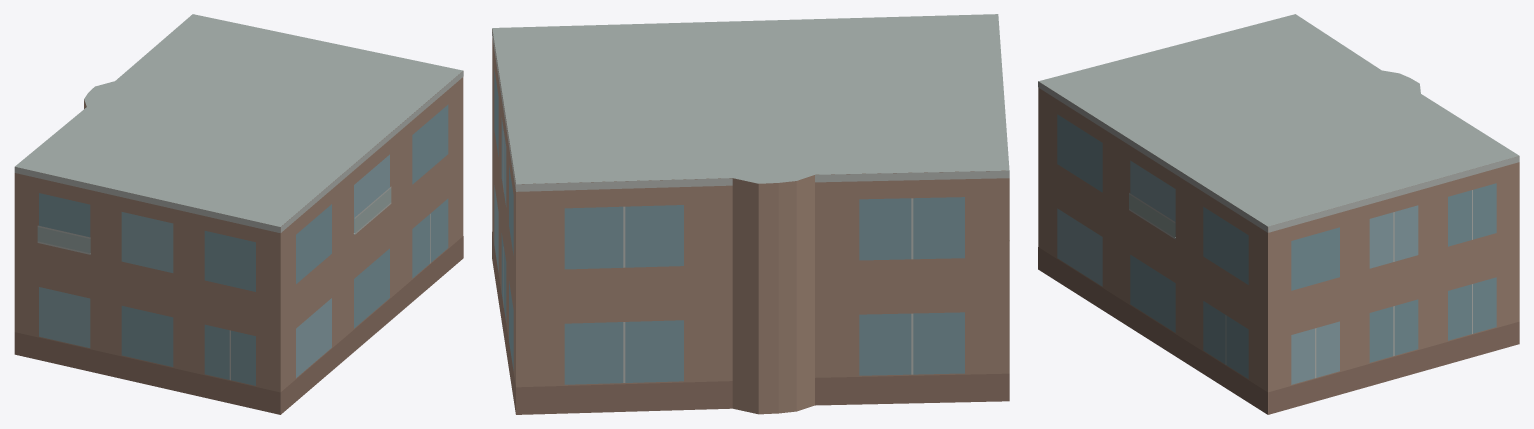
Rendered from survey-upis-32625525.glb.
3 renders of one model, left to right at view 1: azimuth 30°, elevation 25°; view 2: azimuth 150°, elevation 25°; view 3: azimuth 270°, elevation 25°, orthographic. The views are drawn at different scales.
Parts seen in each view (by area): view 1: survey-upis-32625525.tmp; view 2: survey-upis-32625525.tmp; view 3: survey-upis-32625525.tmp.
Boxes of the visible parts, box(x1,y1,x2,y2) form: survey-upis-32625525.tmp: box(14, 14, 463, 414); survey-upis-32625525.tmp: box(492, 14, 1009, 414); survey-upis-32625525.tmp: box(1038, 14, 1519, 414).
Bounding box in the file's own units: 17.95 × 7.4 × 17.17.
